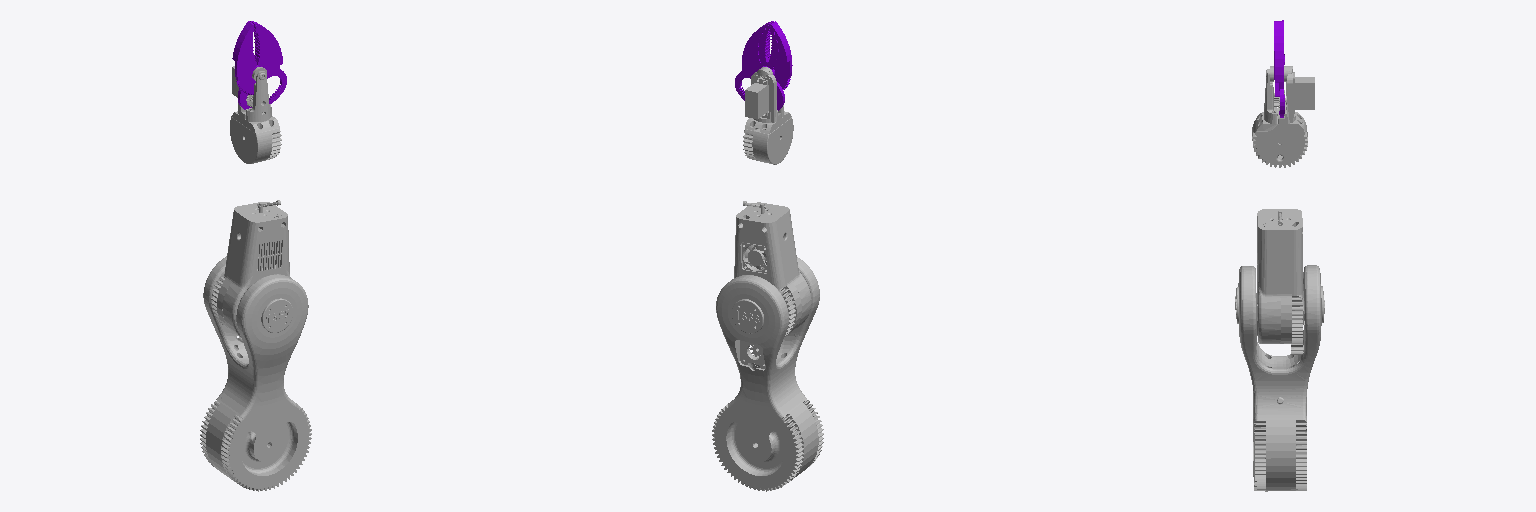
The robot description file, URDF, robot "arm10":
<?xml version="1.0" encoding="utf-8"?>
<!-- This URDF was automatically created by SolidWorks to URDF Exporter! Originally created by [author] ([email redacted]) 
     Commit Version: 1.6.0-4-g7f85cfe  Build Version: 1.6.7995.38578
     For more information, please see http://wiki.ros.org/sw_urdf_exporter -->
<robot
  name="arm10">
  <link
    name="base_link">
    <inertial>
      <origin
        xyz="0.0010410740969428 0.047873093808624 0.0583869216830032"
        rpy="0 0 0" />
      <mass
        value="13.648936476189" />
      <inertia
        ixx="0.189904315418796"
        ixy="-7.17740777543954E-07"
        ixz="1.34830740942066E-05"
        iyy="0.113308535920554"
        iyz="-1.86763580376425E-07"
        izz="0.276400463492036" />
    </inertial>
    <visual>
      <origin
        xyz="0 0 0"
        rpy="0 0 0" />
      <geometry>
        <mesh
          filename="package://arm10/meshes/base_link.STL" />
      </geometry>
      <material
        name="">
        <color
          rgba="0.796078431372549 0.545098039215686 0.141176470588235 1" />
      </material>
    </visual>
    <collision>
      <origin
        xyz="0 0 0"
        rpy="0 0 0" />
      <geometry>
        <mesh
          filename="package://arm10/meshes/base_link.STL" />
      </geometry>
    </collision>
  </link>
  <link
    name="link1">
    <inertial>
      <origin
        xyz="-9.48801988664861E-05 0.00174323840049078 0.0640163592957655"
        rpy="0 0 0" />
      <mass
        value="1.44142040968892" />
      <inertia
        ixx="0.00544796973774704"
        ixy="1.8958645827266E-05"
        ixz="8.81606807731752E-07"
        iyy="0.00440426088676397"
        iyz="-4.52893165804554E-05"
        izz="0.00454472118382818" />
    </inertial>
    <visual>
      <origin
        xyz="0 0 0"
        rpy="0 0 0" />
      <geometry>
        <mesh
          filename="package://arm10/meshes/link1.STL" />
      </geometry>
      <material
        name="">
        <color
          rgba="0.752941176470588 0.752941176470588 0.752941176470588 1" />
      </material>
    </visual>
    <collision>
      <origin
        xyz="0 0 0"
        rpy="0 0 0" />
      <geometry>
        <mesh
          filename="package://arm10/meshes/link1.STL" />
      </geometry>
    </collision>
  </link>
  <joint
    name="joint1"
    type="revolute">
    <origin
      xyz="0.00015179 -0.00010538 0.1895"
      rpy="0 0 0" />
    <parent
      link="base_link" />
    <child
      link="link1" />
    <axis
      xyz="0 0 -1" />
    <limit
      lower="-1"
      upper="1"
      effort="5"
      velocity="1" />
  </joint>
  <link
    name="link2">
    <inertial>
      <origin
        xyz="-1.22422327482798E-05 0.0042974913018709 0.0691473938022745"
        rpy="0 0 0" />
      <mass
        value="1.50425655992578" />
      <inertia
        ixx="0.00384664838256961"
        ixy="-2.91832853124467E-09"
        ixz="-1.17601438592977E-06"
        iyy="0.00426846162818691"
        iyz="-2.07096104581263E-06"
        izz="0.00219011235586005" />
    </inertial>
    <visual>
      <origin
        xyz="0 0 0"
        rpy="0 0 0" />
      <geometry>
        <mesh
          filename="package://arm10/meshes/link2.STL" />
      </geometry>
      <material
        name="">
        <color
          rgba="0.752941176470588 0.752941176470588 0.752941176470588 1" />
      </material>
    </visual>
    <collision>
      <origin
        xyz="0 0 0"
        rpy="0 0 0" />
      <geometry>
        <mesh
          filename="package://arm10/meshes/link2.STL" />
      </geometry>
    </collision>
  </link>
  <joint
    name="join2"
    type="revolute">
    <origin
      xyz="-4.9165E-05 0.00025905 0.116"
      rpy="0 0 0.018039" />
    <parent
      link="link1" />
    <child
      link="link2" />
    <axis
      xyz="0 -1 0" />
    <limit
      lower="-1"
      upper="1"
      effort="5"
      velocity="1" />
  </joint>
  <link
    name="link3">
    <inertial>
      <origin
        xyz="5.8070364650574E-05 0.000168503846882745 0.0341472595131753"
        rpy="0 0 0" />
      <mass
        value="0.690312159440399" />
      <inertia
        ixx="0.00154759615600884"
        ixy="-1.12723851590301E-07"
        ixz="-1.39477267109462E-06"
        iyy="0.00190881107862357"
        iyz="-8.23275525302682E-07"
        izz="0.000452790286617929" />
    </inertial>
    <visual>
      <origin
        xyz="0 0 0"
        rpy="0 0 0" />
      <geometry>
        <mesh
          filename="package://arm10/meshes/link3.STL" />
      </geometry>
      <material
        name="">
        <color
          rgba="0.752941176470588 0.752941176470588 0.752941176470588 1" />
      </material>
    </visual>
    <collision>
      <origin
        xyz="0 0 0"
        rpy="0 0 0" />
      <geometry>
        <mesh
          filename="package://arm10/meshes/link3.STL" />
      </geometry>
    </collision>
  </link>
  <joint
    name="joint3"
    type="revolute">
    <origin
      xyz="-0.00029267 0 0.2005"
      rpy="0 -0.0014597 0" />
    <parent
      link="link2" />
    <child
      link="link3" />
    <axis
      xyz="0 1 0" />
    <limit
      lower="-1"
      upper="1"
      effort="5"
      velocity="1" />
  </joint>
  <link
    name="link4">
    <inertial>
      <origin
        xyz="-0.000365964449833965 -0.000281973906043814 0.0644817998768965"
        rpy="0 0 0" />
      <mass
        value="0.398620996644974" />
      <inertia
        ixx="0.000611487037024775"
        ixy="1.13371575315977E-06"
        ixz="-9.70446110448136E-06"
        iyy="0.000603199358184201"
        iyz="7.75898422831177E-06"
        izz="0.000253472644368682" />
    </inertial>
    <visual>
      <origin
        xyz="0 0 0"
        rpy="0 0 0" />
      <geometry>
        <mesh
          filename="package://arm10/meshes/link4.STL" />
      </geometry>
      <material
        name="">
        <color
          rgba="0.752941176470588 0.752941176470588 0.752941176470588 1" />
      </material>
    </visual>
    <collision>
      <origin
        xyz="0 0 0"
        rpy="0 0 0" />
      <geometry>
        <mesh
          filename="package://arm10/meshes/link4.STL" />
      </geometry>
    </collision>
  </link>
  <joint
    name="joint4"
    type="revolute">
    <origin
      xyz="0.00018976 0 0.13"
      rpy="0 0.0014597 0" />
    <parent
      link="link3" />
    <child
      link="link4" />
    <axis
      xyz="0 0 -1" />
    <limit
      lower="-1"
      upper="1"
      effort="5"
      velocity="1" />
  </joint>
  <link
    name="link5">
    <inertial>
      <origin
        xyz="-0.00452336327445455 0.00561664330549659 0.023139094316319"
        rpy="0 0 0" />
      <mass
        value="0.105972219474045" />
      <inertia
        ixx="5.64870704906335E-05"
        ixy="3.26912694544975E-10"
        ixz="-5.2394489302493E-07"
        iyy="3.74991044238545E-05"
        iyz="2.58630153614593E-07"
        izz="4.45104974515483E-05" />
    </inertial>
    <visual>
      <origin
        xyz="0 0 0"
        rpy="0 0 0" />
      <geometry>
        <mesh
          filename="package://arm10/meshes/link5.STL" />
      </geometry>
      <material
        name="">
        <color
          rgba="0.752941176470588 0.752941176470588 0.752941176470588 1" />
      </material>
    </visual>
    <collision>
      <origin
        xyz="0 0 0"
        rpy="0 0 0" />
      <geometry>
        <mesh
          filename="package://arm10/meshes/link5.STL" />
      </geometry>
    </collision>
  </link>
  <joint
    name="joint5"
    type="revolute">
    <origin
      xyz="0.003874 0 0.117"
      rpy="0 0 0.00064162" />
    <parent
      link="link4" />
    <child
      link="link5" />
    <axis
      xyz="1 0 0" />
    <limit
      lower="-1"
      upper="1"
      effort="5"
      velocity="1" />
  </joint>
  <link
    name="Griper_Gear_and_big_part">
    <inertial>
      <origin
        xyz="0.014665 -0.0050126 0.012789"
        rpy="0 -0.845 0" />
      <mass
        value="0.036695" />
      <inertia
        ixx="3.1223E-05"
        ixy="2.4069E-07"
        ixz="-4.8554E-06"
        iyy="3.8989E-05"
        iyz="1.2227E-06"
        izz="8.6694E-06" />
    </inertial>
    <visual>
      <origin
        xyz="0 0 0"
        rpy="0 0 0" />
      <geometry>
        <mesh
          filename="package://arm10/meshes/Griper_Gear_and_big_part.STL" />
      </geometry>
      <material
        name="">
        <color
          rgba="0.6 0.062745 0.88627 1" />
      </material>
    </visual>
    <collision>
      <origin
        xyz="0 0 0"
        rpy="0 0 0" />
      <geometry>
        <mesh
          filename="package://arm10/meshes/Griper_Gear_and_big_part.STL" />
      </geometry>
    </collision>
  </link>
  <joint
    name="big_part_Joint"
    type="revolute">
    <origin
      xyz="-0.004 0.001692 0.093501"
      rpy="0.0011346 -0.064221 -0.018319" />
    <parent
      link="link5" />
    <child
      link="Griper_Gear_and_big_part" />
    <axis
      xyz="0 1 0" />
    <limit
      lower="-0.3"
      upper="0.3"
      effort="5"
      velocity="1" />
  </joint>
  <link
    name="Small_Part">
    <inertial>
      <origin
        xyz="0 -0.0075 0"
        rpy="0 0.1 0" />
      <mass
        value="0.0232397484853117" />
      <inertia
        ixx="9.58629933731075E-06"
        ixy="-5.25501936916929E-06"
        ixz="3.55241121204417E-07"
        iyy="5.1773768888674E-06"
        iyz="4.97959119005134E-07"
        izz="1.42099224036342E-05" />
    </inertial>
    <visual>
      <origin
        xyz="0 -0.0075 0"
        rpy="0 0.1 0" />
      <geometry>
        <mesh
          filename="package://arm10/meshes/Small_Part.STL" />
      </geometry>
      <material
        name="">
        <color
          rgba="0.6 0.0627450980392157 0.886274509803922 1" />
      </material>
    </visual>
    <collision>
      <origin
        xyz="0 -0.0075 0"
        rpy="0 0.1 0" />
      <geometry>
        <mesh
          filename="package://arm10/meshes/Small_Part.STL" />
      </geometry>
    </collision>
  </link>
  <joint
    name="Small_Part_joint"
    type="revolute">
    <origin
      xyz="0 0 0"
      rpy="0 0 0" />
    <parent
      link="Griper_Gear_and_big_part" />
    <child
      link="Small_Part" />
    <axis
      xyz="0 -1 0" />
    <limit
      lower="-0.3"
      upper="0.3"
      effort="5"
      velocity="1" />
    <mimic
      joint="big_part_Joint"
      multiplier="1" />
  </joint>
</robot>

--- Facts derived from the render (not from the file) ---
The picture shows the robot from 3 angles, left to right: view 1: azimuth 30°, elevation 25°; view 2: azimuth 150°, elevation 25°; view 3: azimuth 270°, elevation 25°; orthographic projection.
Robot: arm10 — 8 links, 7 joints (7 revolute); root link base_link; default pose: all joints at 0.
Visible links, largest first — view 1: link2, link3, link5, Griper_Gear_and_big_part, Small_Part; view 2: link2, link3, link5, Griper_Gear_and_big_part, Small_Part; view 3: link2, link3, link5, Griper_Gear_and_big_part.
Boxes of the visible links, x1,y1,x2,y2 form: link2: (200, 256, 311, 491); link3: (211, 200, 290, 337); link5: (230, 66, 281, 163); Griper_Gear_and_big_part: (238, 21, 286, 109); Small_Part: (232, 21, 261, 94); link2: (712, 257, 823, 491); link3: (734, 201, 811, 336); link5: (743, 67, 793, 164); Griper_Gear_and_big_part: (735, 21, 784, 110); Small_Part: (767, 21, 792, 89); link2: (1235, 265, 1324, 491); link3: (1257, 209, 1302, 343); link5: (1252, 66, 1314, 167); Griper_Gear_and_big_part: (1274, 21, 1284, 117).
Size in the robot's own frame: 0.1352 by 0.1196 by 0.683 metres.
Meshes: 8 distinct files referenced, 5 mesh visuals loaded (5 binary STL); not drawn: 3 (reference not matched to a file when rendering).